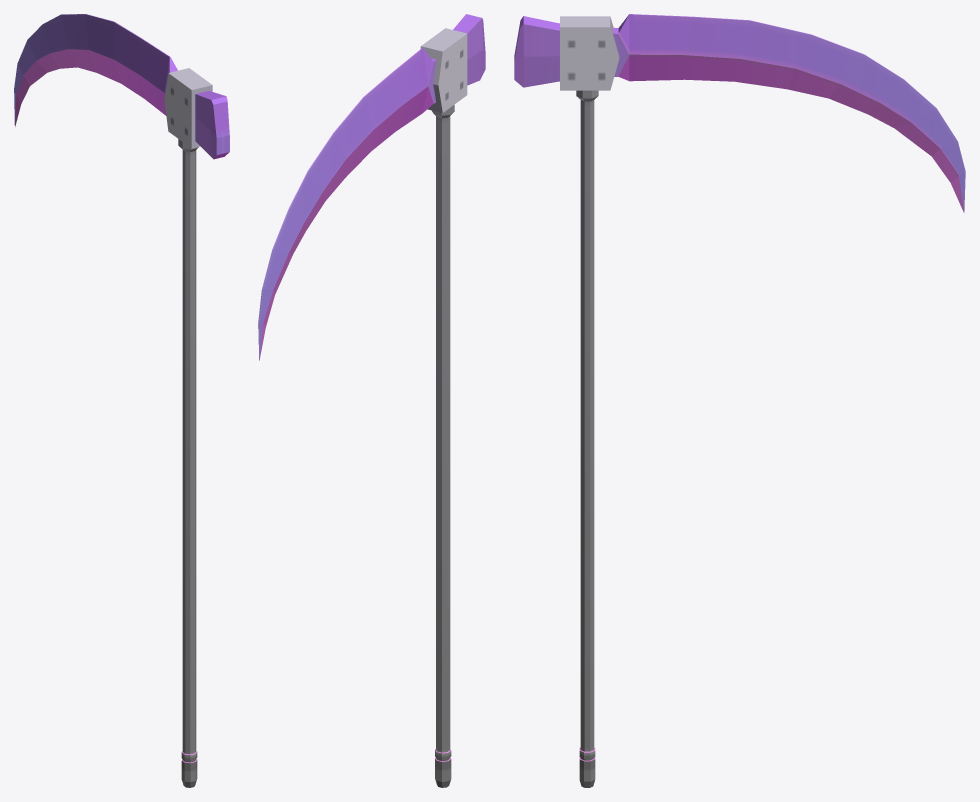
Rendered from battle_scythe.obj.
3 views of the same model, side by side, from view 1: azimuth 30°, elevation 25°; view 2: azimuth 150°, elevation 25°; view 3: azimuth 270°, elevation 25° (orthographic). The views are drawn at different scales.
Parts seen in each view (by area): view 1: syc_柱体.001; view 2: syc_柱体.001; view 3: syc_柱体.001.
Part boxes in pixels (bbox=[...]): syc_柱体.001: bbox=[14, 14, 229, 787]; syc_柱体.001: bbox=[258, 14, 485, 787]; syc_柱体.001: bbox=[514, 14, 965, 787].
Bounding box in the file's own units: 0.0854 × 2.8 × 1.48.
